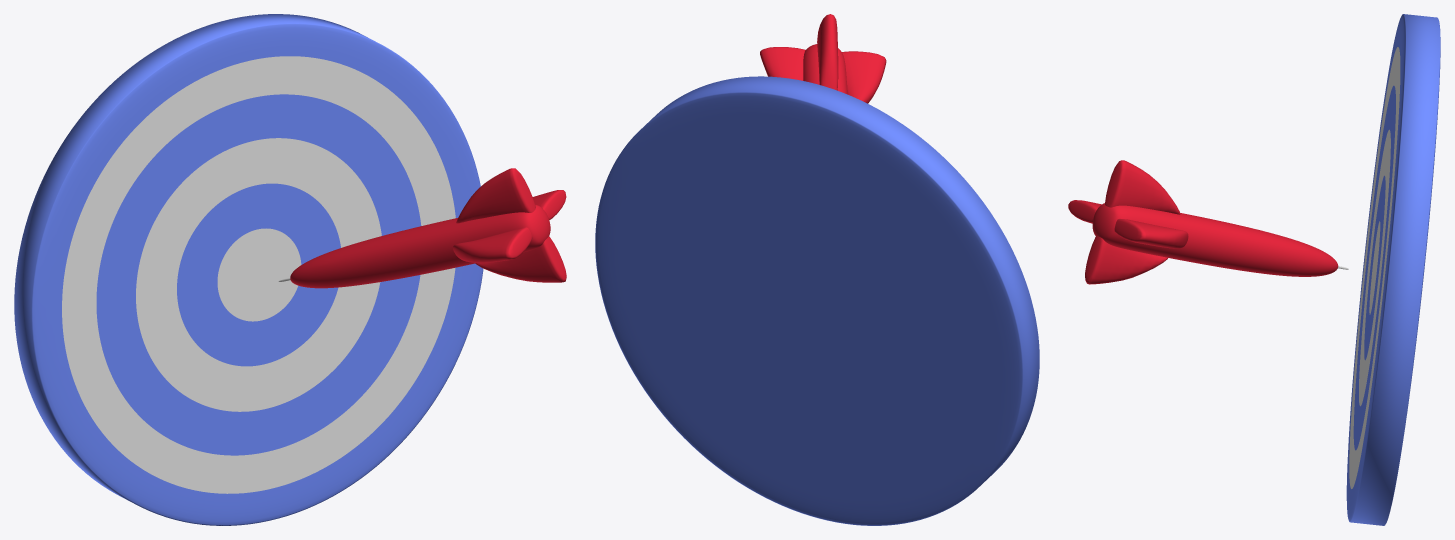
The model's file is target.glb.
3 renders of one model, left to right at view 1: azimuth 30°, elevation 25°; view 2: azimuth 150°, elevation 25°; view 3: azimuth 270°, elevation 25°, orthographic. The views are drawn at different scales.
Visible parts, largest first — view 1: Cylinder.003, Rocket.001; view 2: Cylinder.003, Rocket.001; view 3: Cylinder.003, Rocket.001.
Boxes of the visible parts, bbox=[...] form: Cylinder.003: bbox=[14, 14, 483, 525]; Rocket.001: bbox=[278, 168, 566, 288]; Cylinder.003: bbox=[595, 76, 1039, 525]; Rocket.001: bbox=[760, 14, 886, 103]; Cylinder.003: bbox=[1346, 14, 1440, 525]; Rocket.001: bbox=[1068, 160, 1348, 284].
Bounding box in the file's own units: 24.66 × 24.57 × 17.89.
